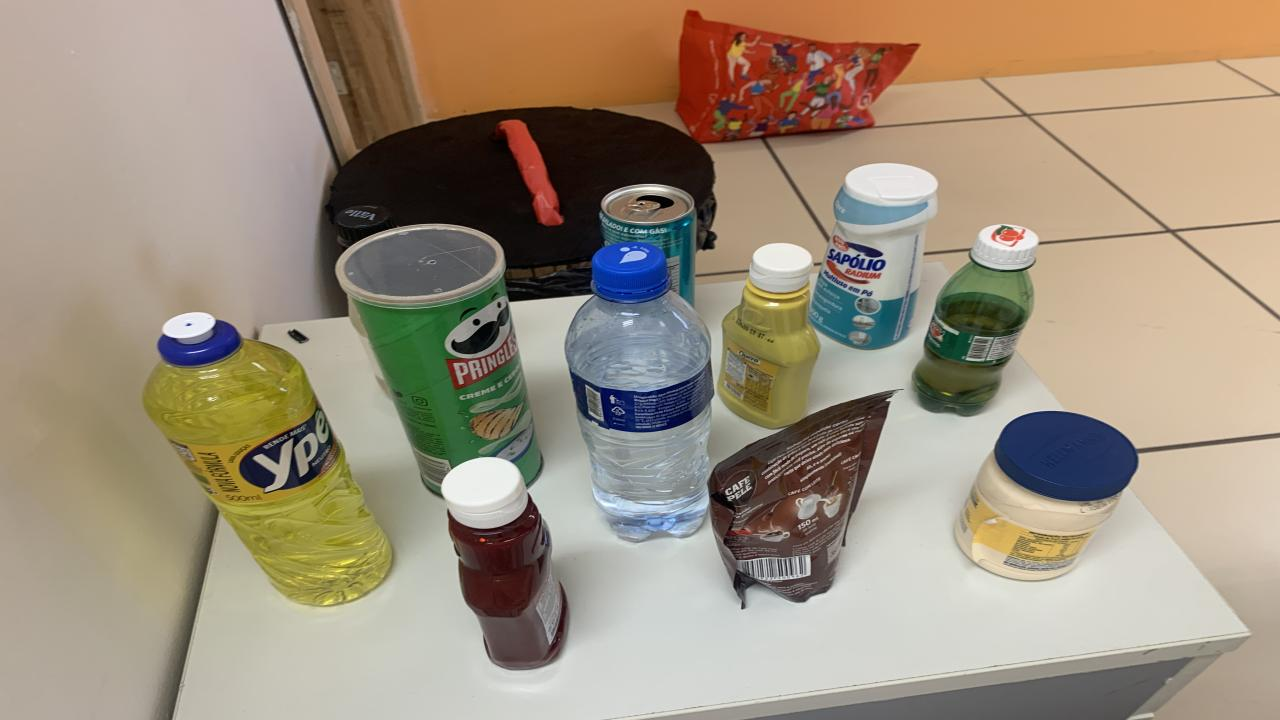Cleaner-Cleanup_Items: (810, 163, 938, 349)
Coffee-Pantry_Items: (708, 390, 895, 608)
Detergent-Cleanup_Items: (142, 311, 392, 606)
Guarana-Drinks: (912, 225, 1038, 414)
Ketchup-Pantry_Items: (442, 458, 568, 669)
Mayonnaise-Pantry_Items: (955, 411, 1138, 581)
Mustard-Pantry_Items: (718, 244, 820, 429)
Pringles-Snacks: (335, 225, 542, 493)
Tea-Drinks: (600, 184, 698, 304)
Water_Bottle-Drinks: (565, 242, 712, 542)
